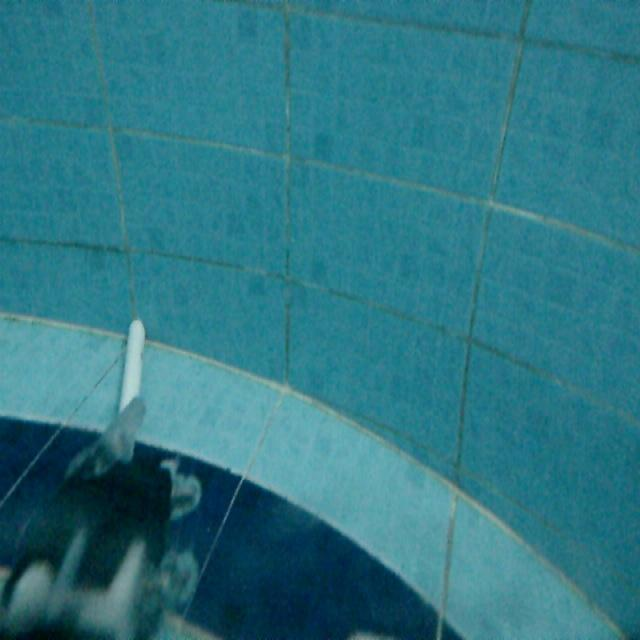Cube: (122, 313, 146, 405)
